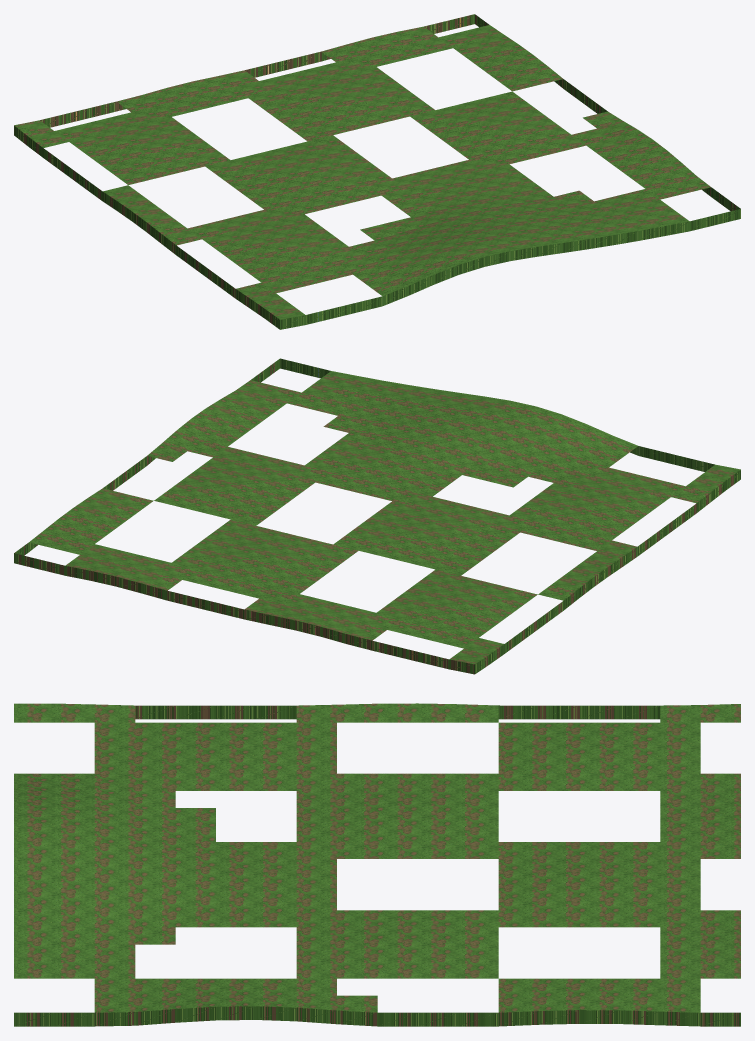
The model's file is rv_terrain_00.gltf.
3 views of the same model, one above another, from view 1: azimuth 30°, elevation 25°; view 2: azimuth 150°, elevation 25°; view 3: azimuth 270°, elevation 25° (orthographic). The views are drawn at different scales.
Parts seen in each view (by area): view 1: RV_Terrain_00; view 2: RV_Terrain_00; view 3: RV_Terrain_00.
Boxes of the visible parts, bbox=[...] form: RV_Terrain_00: bbox=[14, 14, 740, 329]; RV_Terrain_00: bbox=[14, 358, 740, 674]; RV_Terrain_00: bbox=[14, 703, 740, 1026].
Bounding box in the file's own units: 72 × 3.67 × 72.
2 materials, 1 textured.
